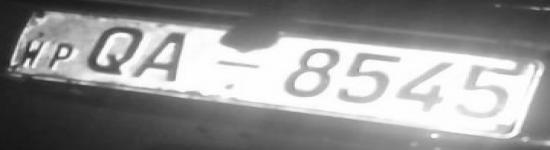4: (398, 52, 455, 115)
5: (454, 59, 528, 121), (342, 50, 402, 104)
8: (279, 43, 339, 98)
A: (134, 32, 199, 82), (209, 55, 265, 72)
P: (50, 40, 77, 72)
Q: (85, 21, 145, 76)
W: (11, 39, 49, 68)
